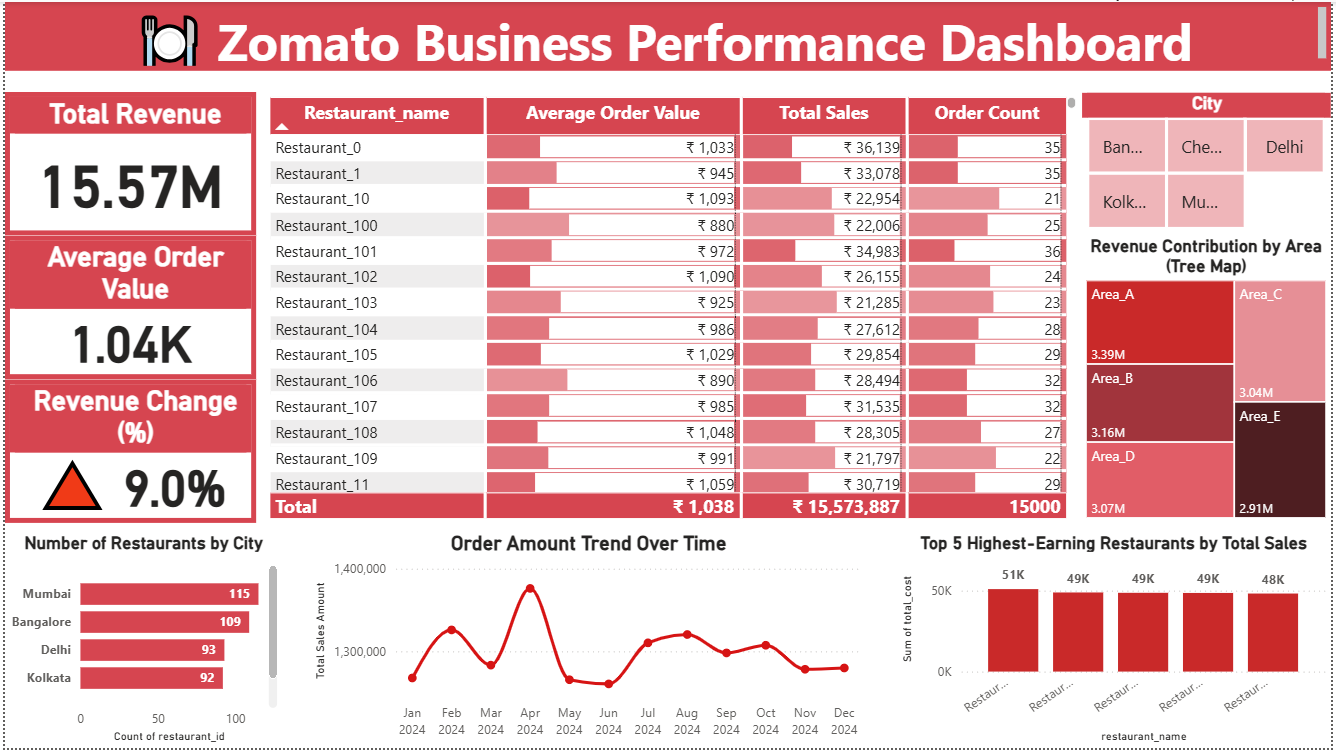

The page's visual inventory and layout, read from the dashboard file:
{"tool":"powerbi","page":{"name":"Task-10","canvas":[1280,720],"ordinal":12},"visuals":[{"type":"card","title":"Total Revenue","fields":{"Values":["Zomato_Orders.Total Revenue"]},"box":[0,86.9,242.5,138.7],"z":0},{"type":"card","title":"Average Order Value","fields":{"Values":["Zomato_Orders.Avg Order Value"]},"box":[0,225.6,242.5,138.7],"z":1000},{"type":"card","title":"Revenue Change (%)","fields":{"Values":["CorrelationTable.Revenue Change Display"]},"box":[0,364.3,242.5,138.7],"z":2000},{"type":"advancedSlicerVisual","title":"City","fields":{"Values":["Zomato_Restaurants.city"]},"box":[1038.7,86.9,241.3,138.7],"z":3000},{"type":"clusteredColumnChart","title":"Top 5 Highest-Earning Restaurants by Total Sales","fields":{"Category":["Zomato_Restaurants.restaurant_name"],"Y":["Sum(Zomato_Orders.total_cost)"]},"box":[860.2,511.5,419.8,208.7],"z":4000},{"type":"treemap","title":"Revenue Contribution by Area (Tree Map)","fields":{"Group":["Zomato_Restaurants.area"],"Values":["Sum(Zomato_Orders.total_cost)"]},"box":[1038.7,225.6,241.3,277.5],"z":5000},{"type":"tableEx","fields":{"Values":["Zomato_Restaurants.restaurant_name","CorrelationTable.Average Order Value","CorrelationTable.Total Sales","CorrelationTable.Order Count"]},"box":[249.7,86.9,789,416.2],"z":6000},{"type":"textbox","box":[0,0,1280,66.4],"z":7000},{"type":"clusteredBarChart","title":"Number of Restaurants by City","fields":{"Category":["Zomato_Restaurants.city"],"Y":["CountNonNull(Zomato_Restaurants.restaurant_id)"]},"box":[0,511.5,267.8,208.7],"z":8000},{"type":"lineChart","title":"Order Amount Trend Over Time","fields":{"Y":["Sum(Zomato_Orders.total_cost)"],"Category":["Zomato_Orders.Order Month"]},"box":[294.4,511.5,538.1,206.3],"z":9000}]}

Visuals, with their boxes in screenshot pixels (x1, y1, x2, y2), scaled from the page's 1280x720 canvas onto the 1336x750 screenshot:
"Total Revenue" card: bbox=[0, 91, 253, 235]
"Average Order Value" card: bbox=[0, 235, 253, 379]
"Revenue Change (%)" card: bbox=[0, 379, 253, 524]
"City" advancedSlicerVisual: bbox=[1084, 91, 1335, 235]
"Top 5 Highest-Earning Restaurants by Total Sales" clusteredColumnChart: bbox=[898, 533, 1335, 749]
"Revenue Contribution by Area (Tree Map)" treemap: bbox=[1084, 235, 1335, 524]
tableEx - Zomato_Restaurants.restaurant_name x CorrelationTable.Average Order Value: bbox=[261, 91, 1084, 524]
textbox: bbox=[0, 0, 1335, 69]
"Number of Restaurants by City" clusteredBarChart: bbox=[0, 533, 280, 749]
"Order Amount Trend Over Time" lineChart: bbox=[307, 533, 869, 748]
